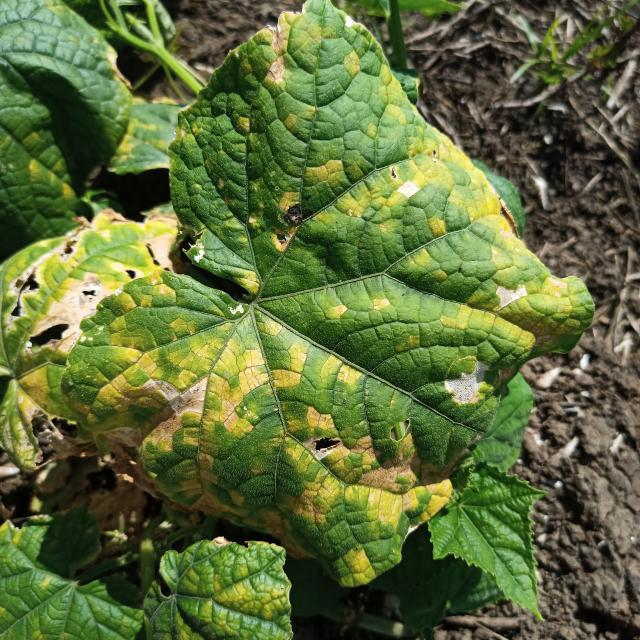disease_cucumber: (56, 19, 562, 574)
